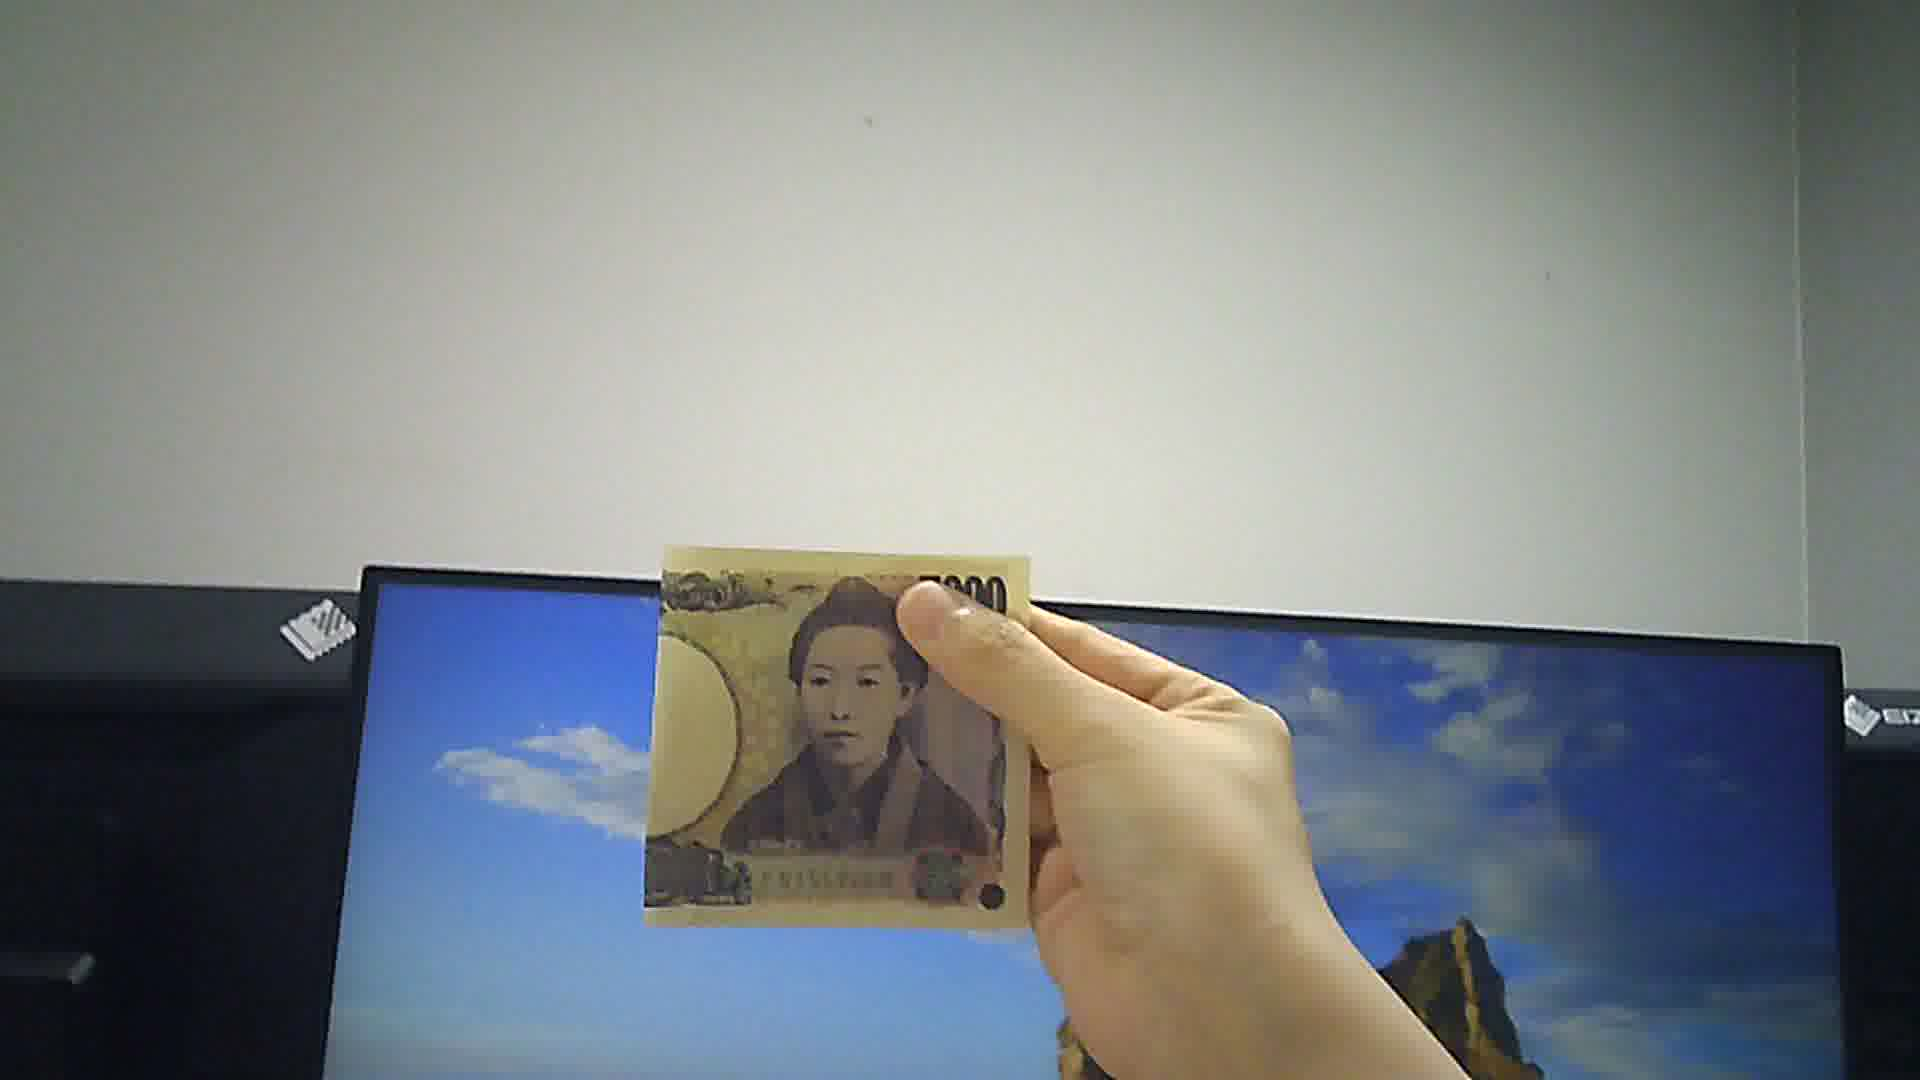5,000 Yen: (637, 538, 1042, 930)
